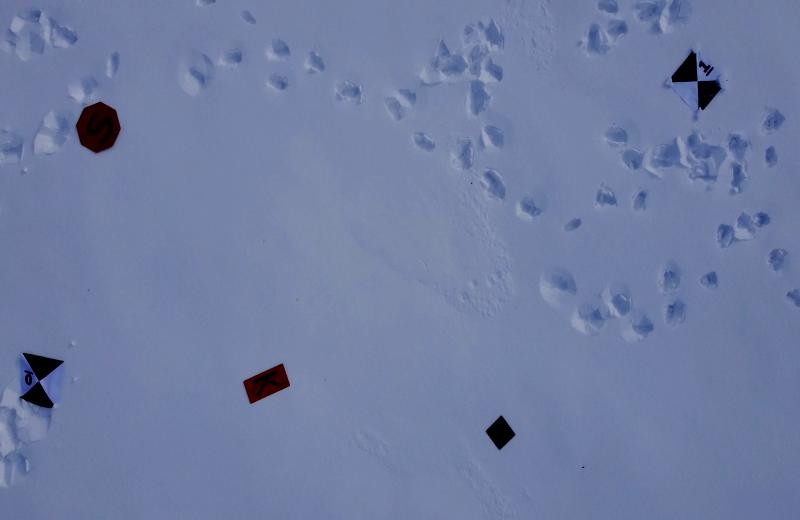Octagon: (74, 100, 123, 154)
Rectangle: (242, 362, 290, 404)
Square: (486, 416, 516, 452)
